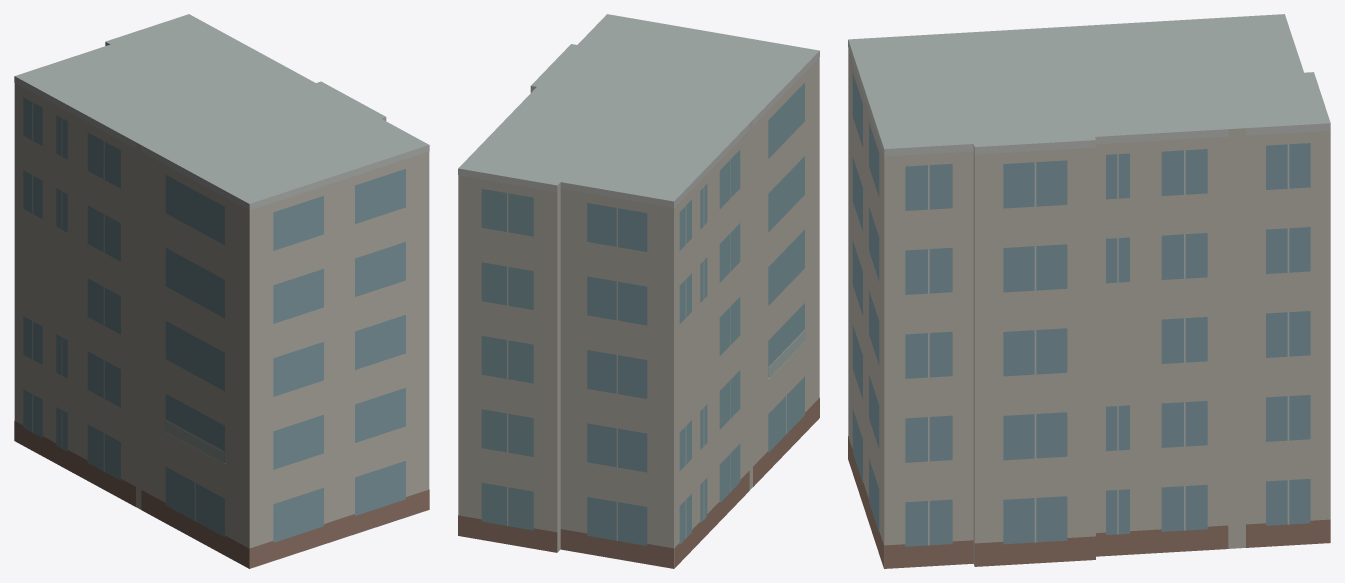
The model's file is survey-upis-32734505.glb.
3 renders of one model, left to right at view 1: azimuth 30°, elevation 25°; view 2: azimuth 150°, elevation 25°; view 3: azimuth 270°, elevation 25°, orthographic. The views are drawn at different scales.
Parts seen in each view (by area): view 1: survey-upis-32734505.tmp; view 2: survey-upis-32734505.tmp; view 3: survey-upis-32734505.tmp.
Boxes of the visible parts, x1,y1,x2,y2 form: survey-upis-32734505.tmp: (14,14,429,568); survey-upis-32734505.tmp: (458,14,819,568); survey-upis-32734505.tmp: (848,14,1330,568).
Size of the model in its own units: 9.4 by 13.6 by 14.18.
